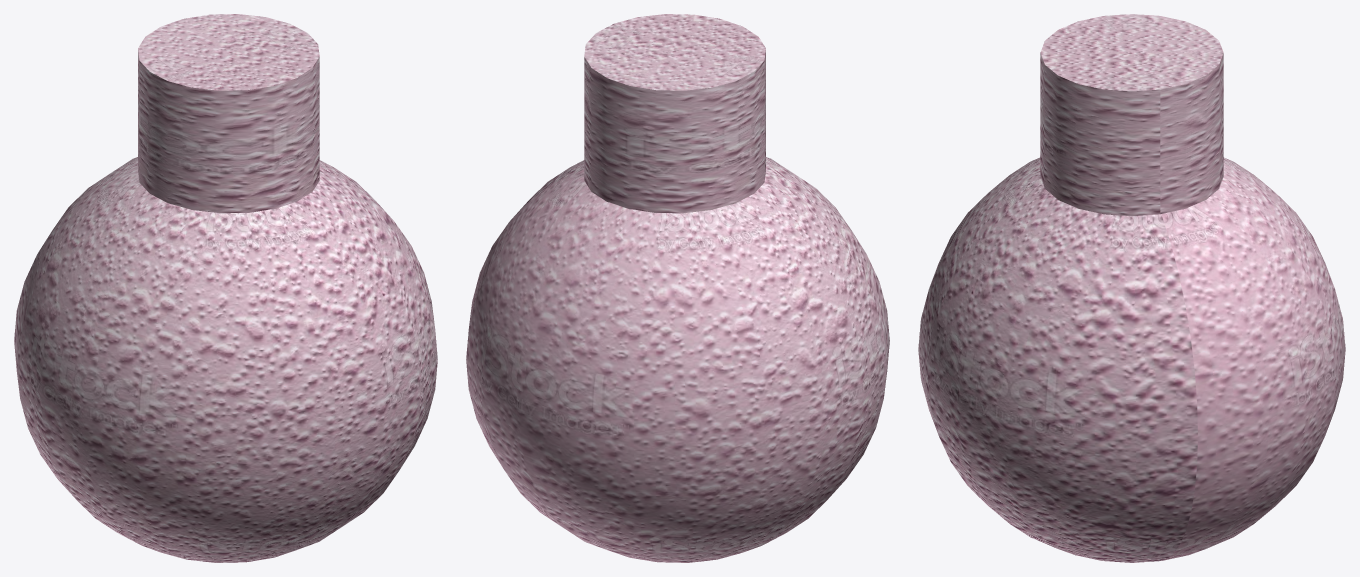
File: Objeto7.obj
The picture shows the model from 3 angles, left to right: view 1: azimuth 30°, elevation 25°; view 2: azimuth 150°, elevation 25°; view 3: azimuth 270°, elevation 25°; orthographic projection.
Visible parts, largest first — view 1: polySurface30; view 2: polySurface30; view 3: polySurface30.
Part boxes in pixels (x1,y1,x2,y2): polySurface30: (14,14,437,562); polySurface30: (466,14,889,562); polySurface30: (918,14,1345,562).
Bounding box in the file's own units: 0.2115 × 0.2685 × 0.2115.
Materials: 2 (2 with a texture image).
